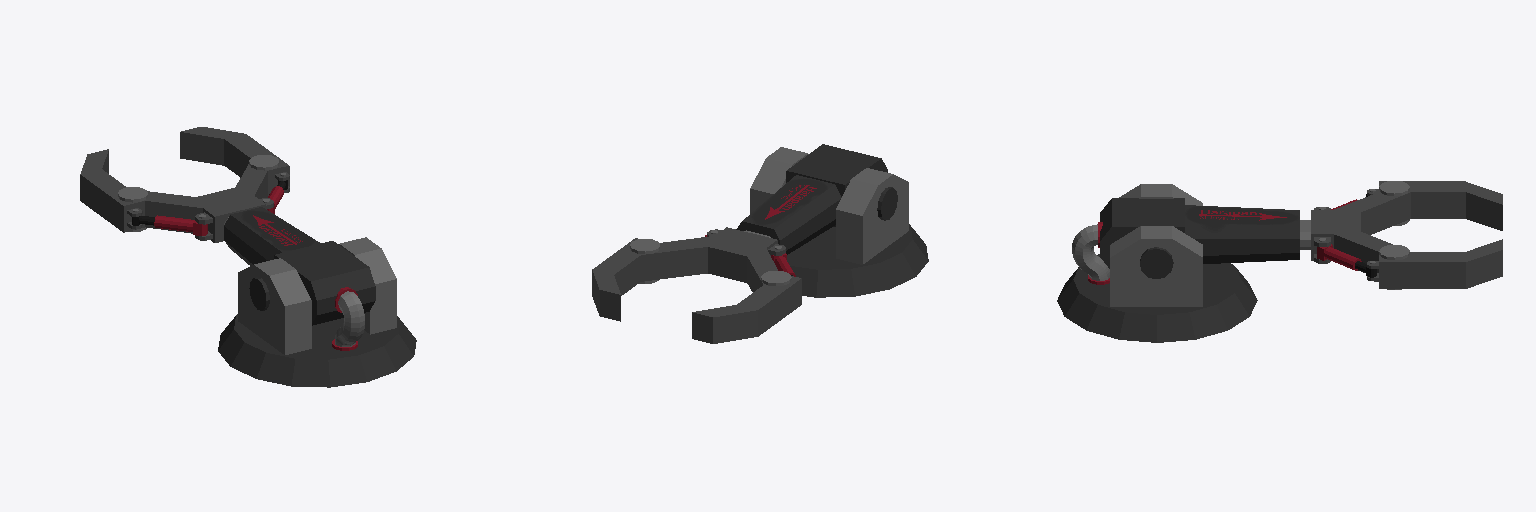
3 views of the same model, side by side, from view 1: azimuth 30°, elevation 25°; view 2: azimuth 150°, elevation 25°; view 3: azimuth 270°, elevation 25° (orthographic).
Visible parts, largest first — view 1: Cannon; view 2: Cannon; view 3: Cannon.
Part boxes in pixels (left/top/right/bottom): Cannon: left=80, top=127, right=416, bottom=387; Cannon: left=592, top=144, right=928, bottom=343; Cannon: left=1057, top=181, right=1502, bottom=342.
Bounding box in the file's own units: 4.25 × 2.09 × 9.46.
1 materials, 1 textured.